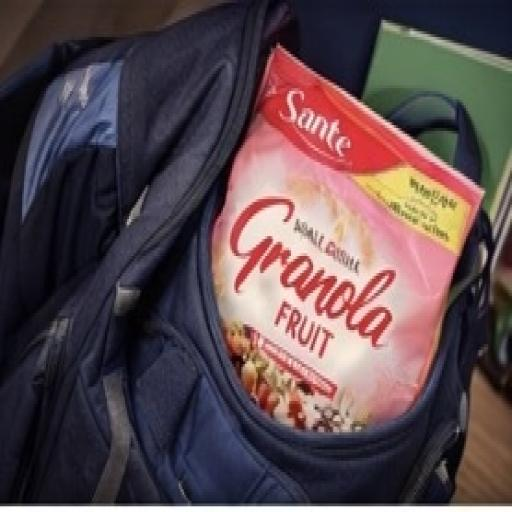granola: (189, 22, 481, 490)
